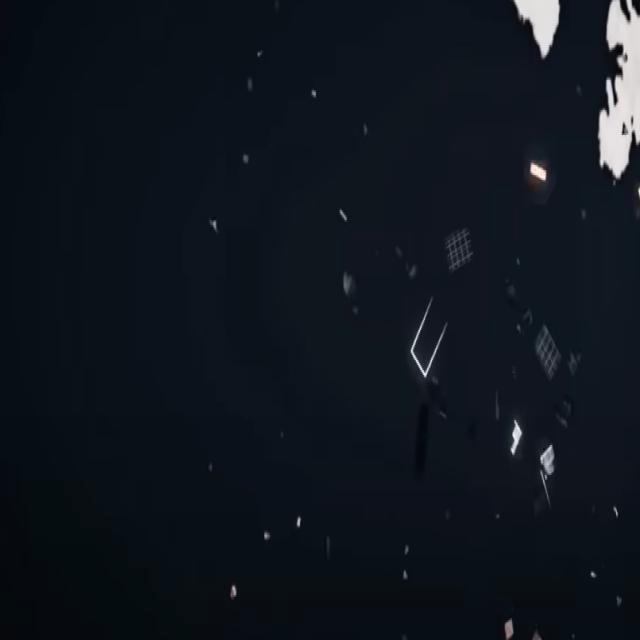large_debris: (399, 288, 451, 382), (532, 314, 564, 388), (443, 215, 476, 285), (536, 435, 562, 516), (506, 408, 526, 472), (525, 154, 551, 193), (502, 611, 517, 640)
